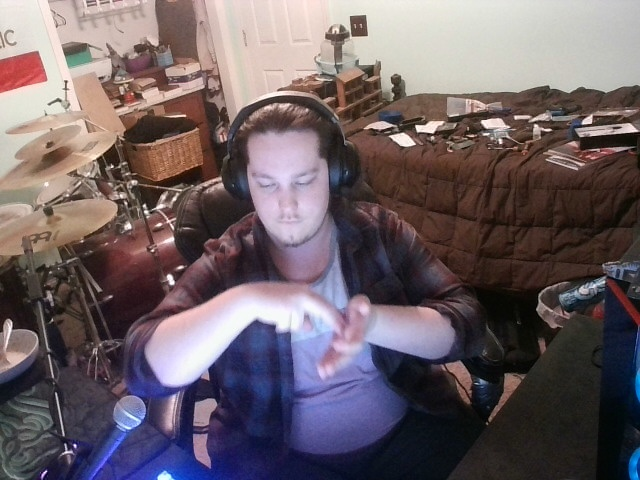fork: (243, 270, 393, 389)
